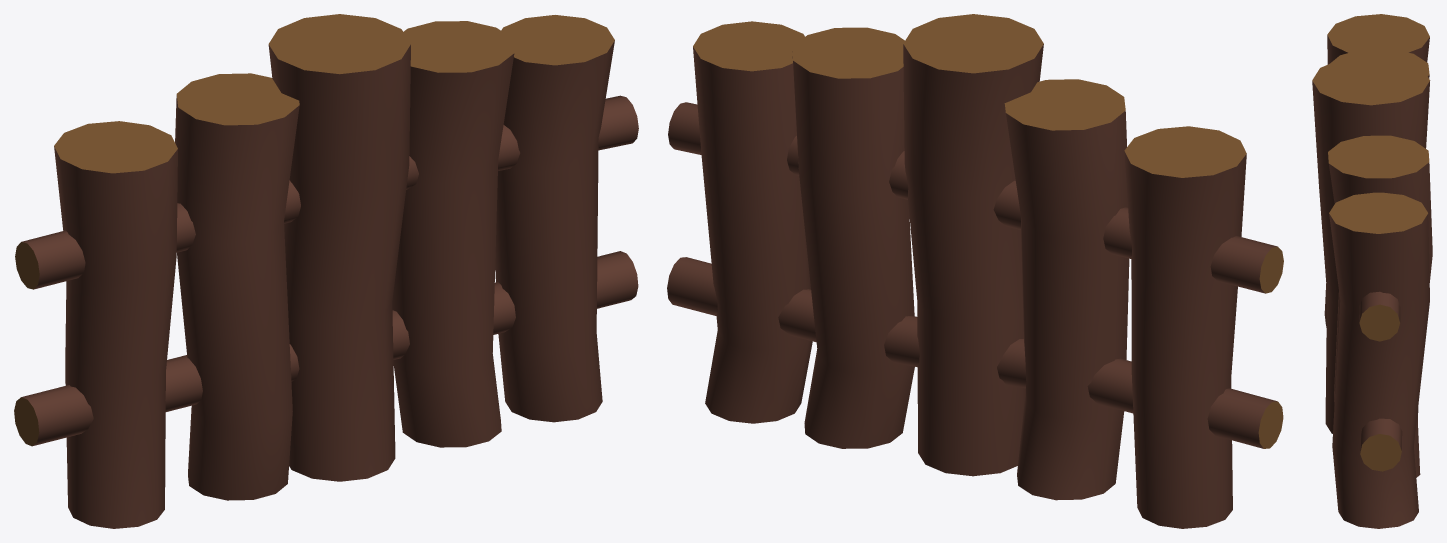
The model's file is WoodStackFence_Single.fbx.
3 views of the same model, side by side, from view 1: azimuth 30°, elevation 25°; view 2: azimuth 150°, elevation 25°; view 3: azimuth 270°, elevation 25° (orthographic). The views are drawn at different scales.
Parts seen in each view (by area): view 1: WoodStackFence_Single; view 2: WoodStackFence_Single; view 3: WoodStackFence_Single.
Boxes of the visible parts, x1,y1,x2,y2 form: WoodStackFence_Single: [14, 14, 638, 528]; WoodStackFence_Single: [667, 14, 1283, 528]; WoodStackFence_Single: [1312, 14, 1432, 528].
Size of the model in its own units: 302 by 199 by 63.55.
